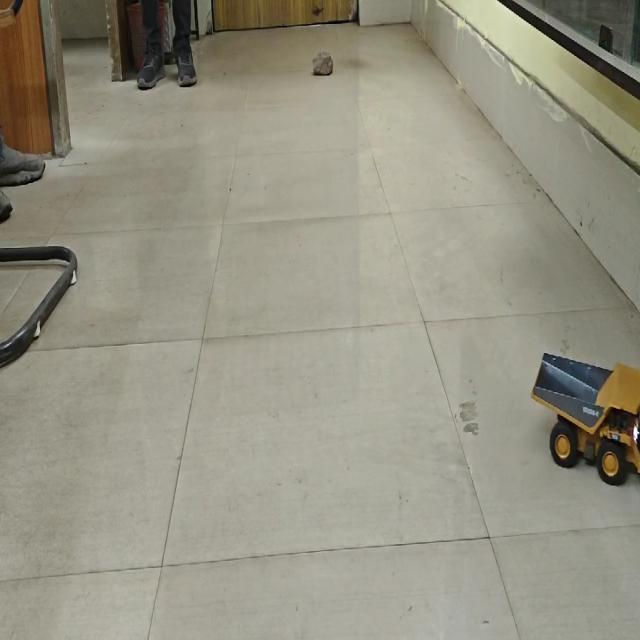dump_truck: (532, 349, 640, 483)
